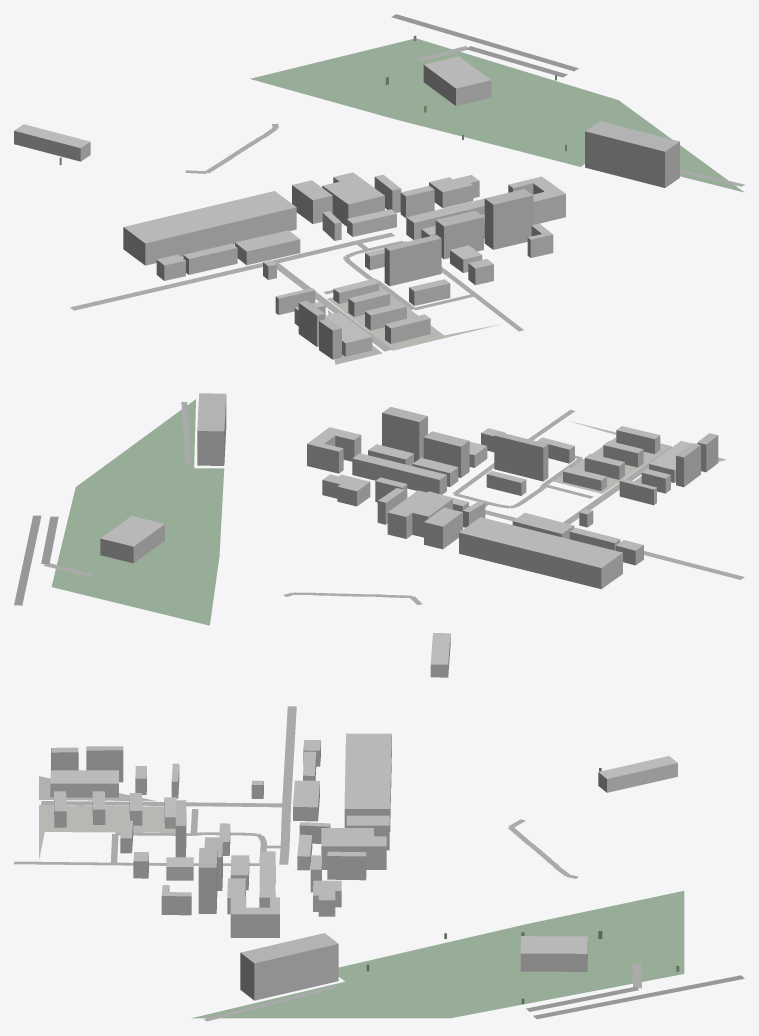
3 renders of one model, top to bottom at view 1: azimuth 30°, elevation 25°; view 2: azimuth 150°, elevation 25°; view 3: azimuth 270°, elevation 25°, orthographic. The views are drawn at different scales.
Size of the model in its own units: 580 by 40.29 by 566.
